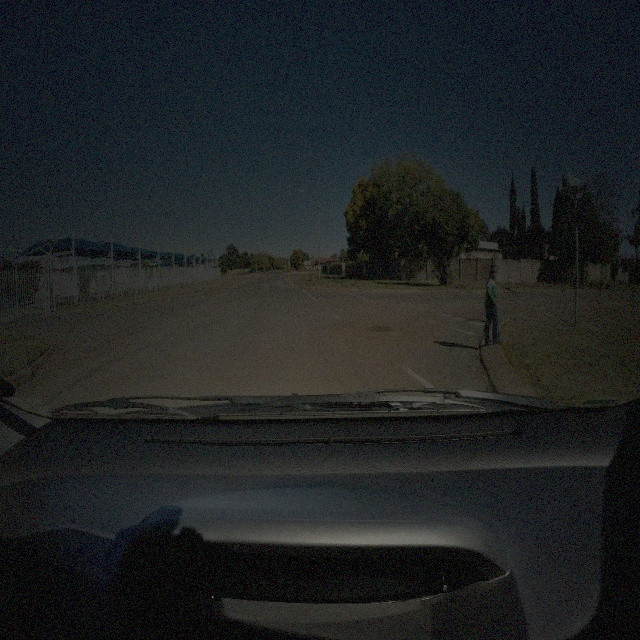pothole: (364, 324, 396, 334)
